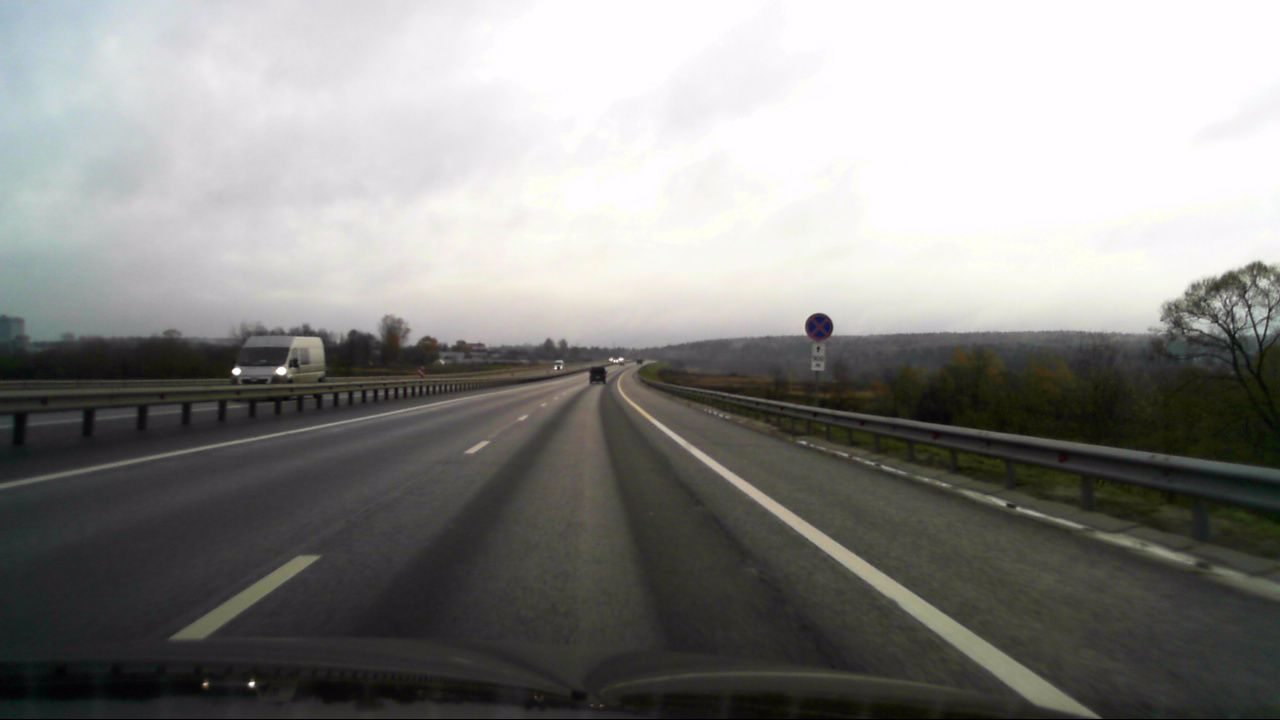No Parking: (805, 312, 833, 341)
